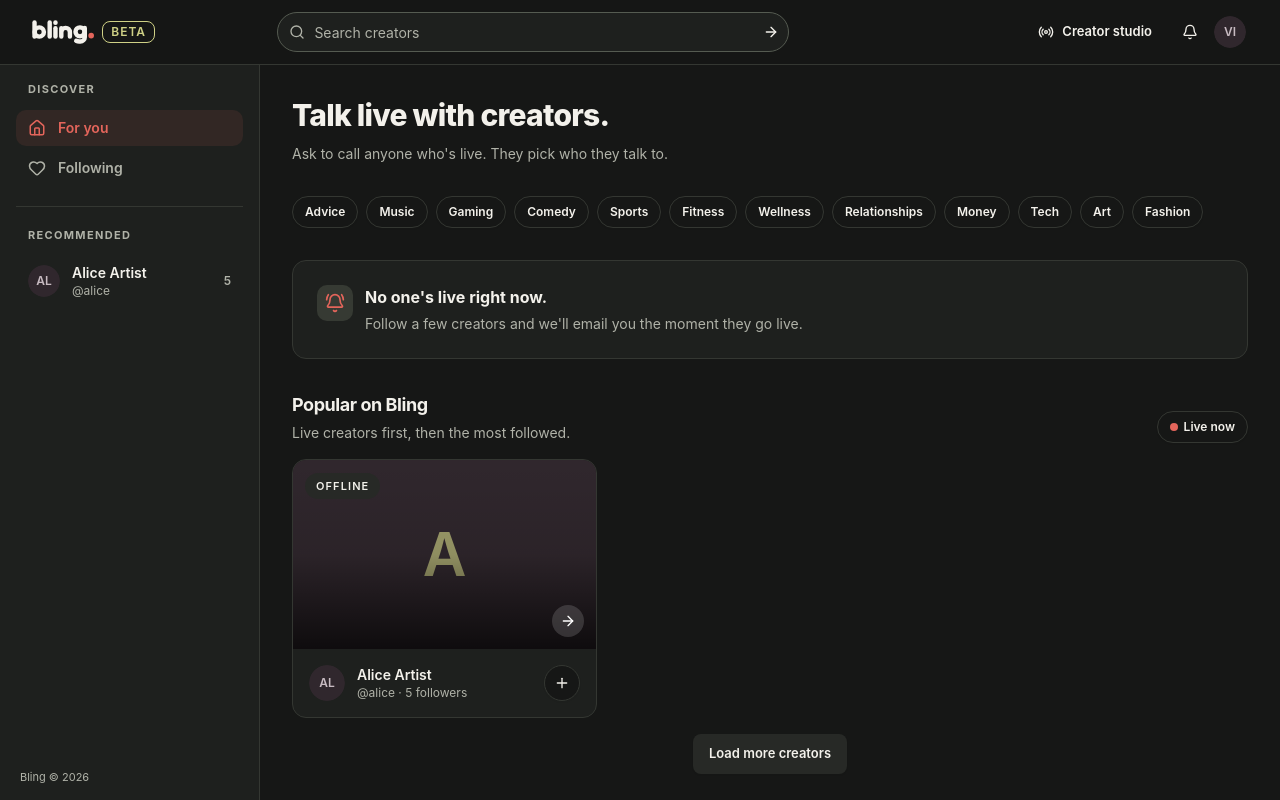
Test: API-backed social discovery › loads subsequent pages with a server cursor
Click the button "Load more creators".
click(770, 754)  # box left=693, top=734, right=847, bottom=774
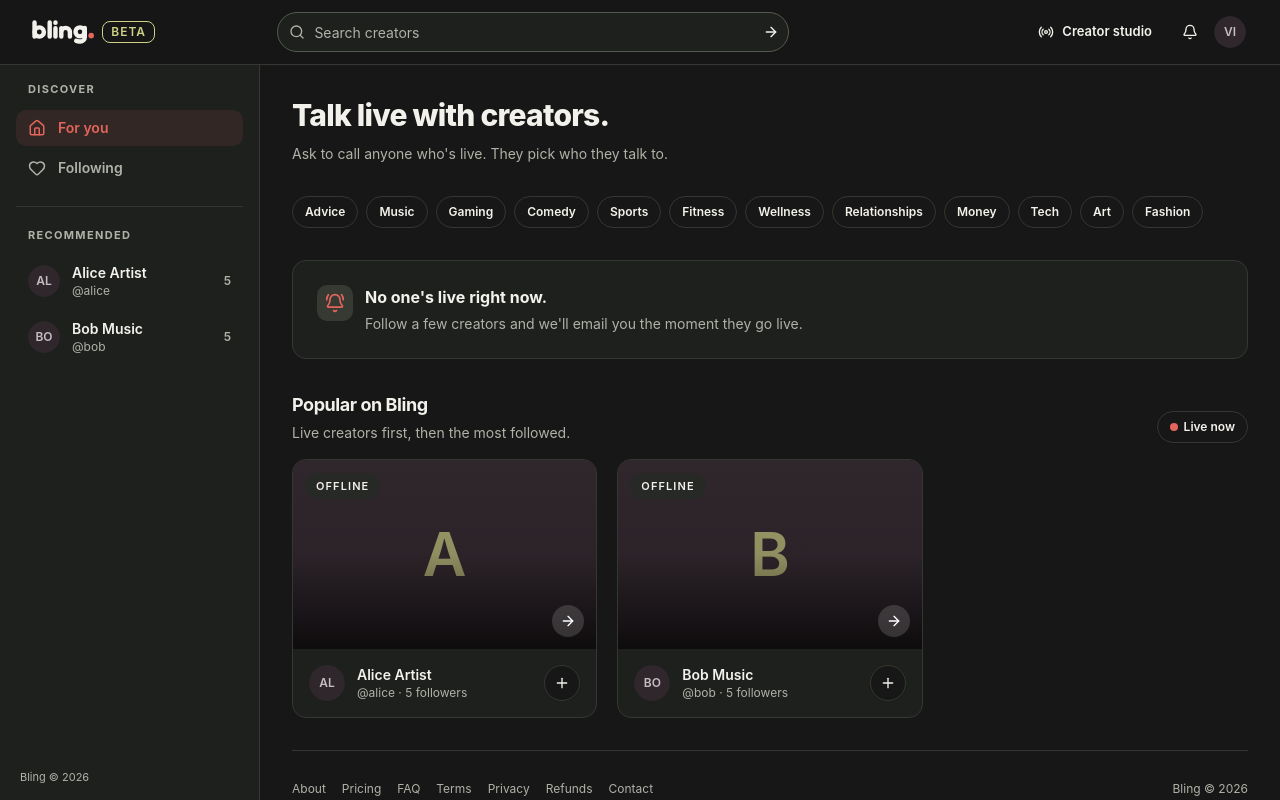
Expected: the link with aria-label "Visit Bob Music" is shown, left=618, top=460, right=922, bottom=649
